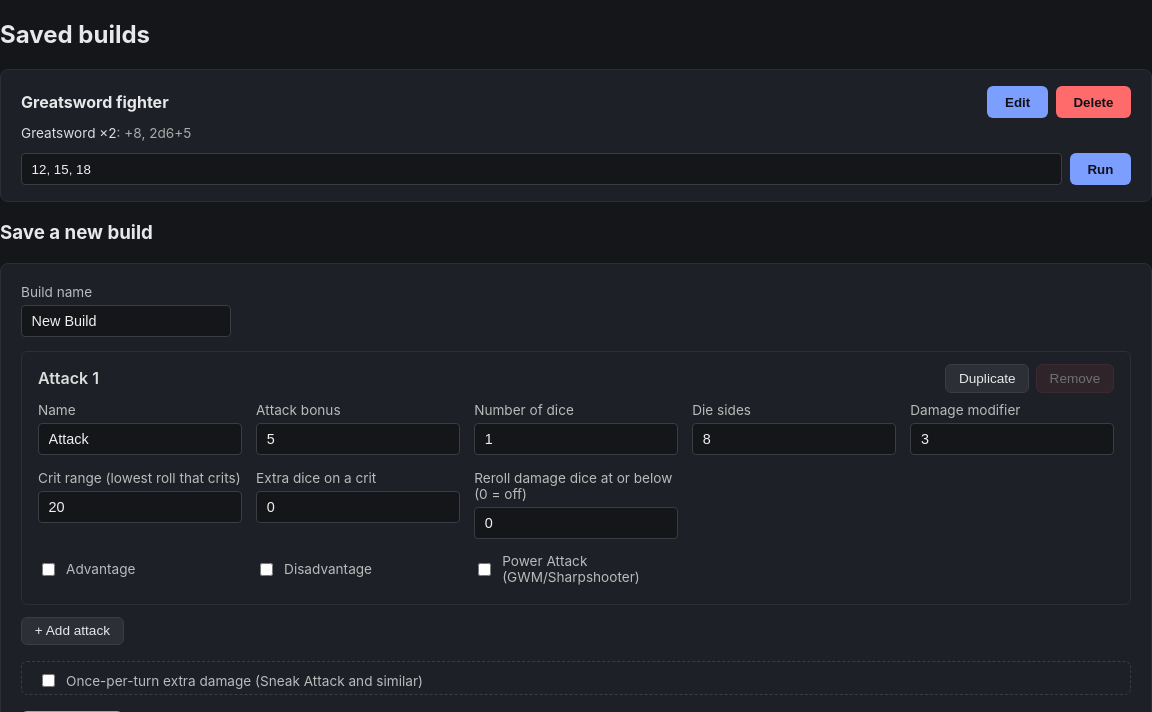
Test case: BuildsPanel › deletes a build and refreshes
expect the text "Greatsword fighter" is shown: met, box [21, 92, 169, 112]
Click the button "Delete" at (1093, 102), box [1056, 86, 1131, 118]
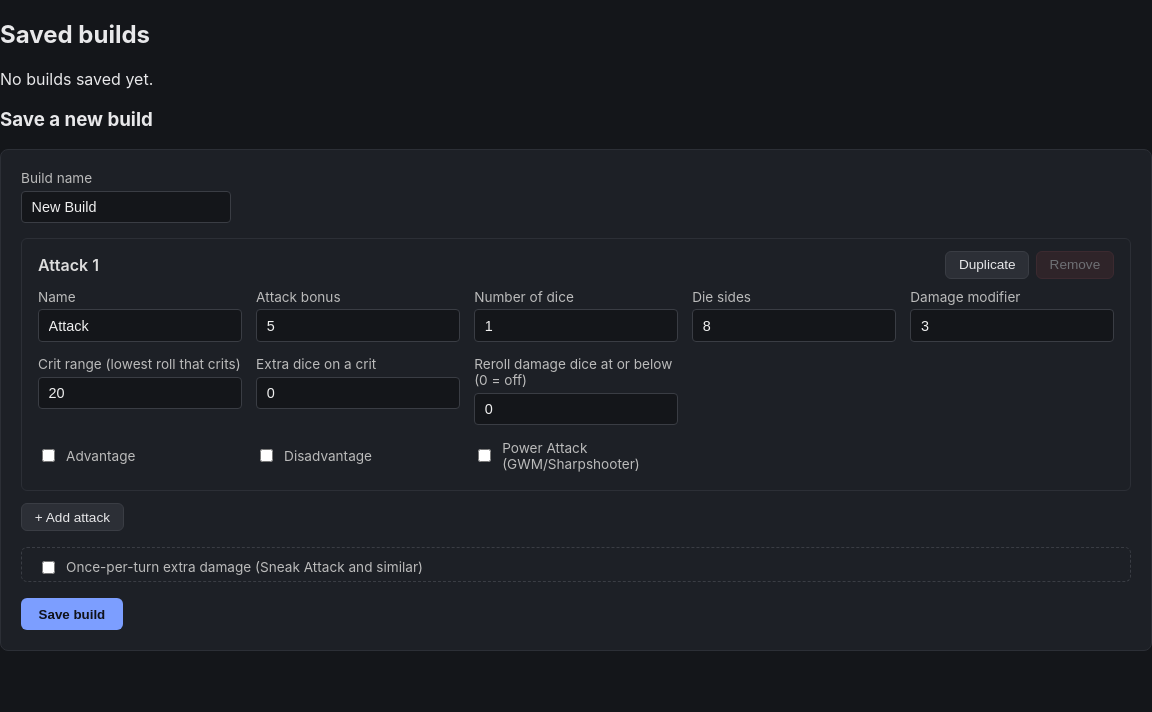
expect the text "No builds saved yet." is shown: met, box [0, 69, 153, 89]
